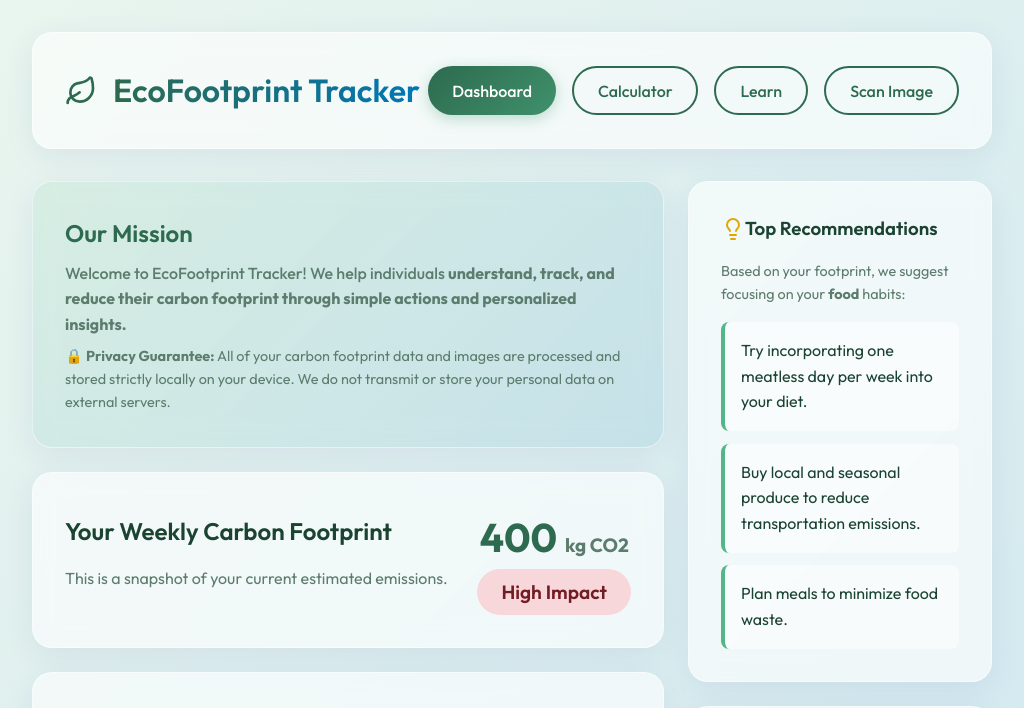
App Component › navigates between tabs
The width and height of the screenshot is (1024, 708).
Click the button "Calculator".
click(635, 91)  # box [572, 66, 698, 115]
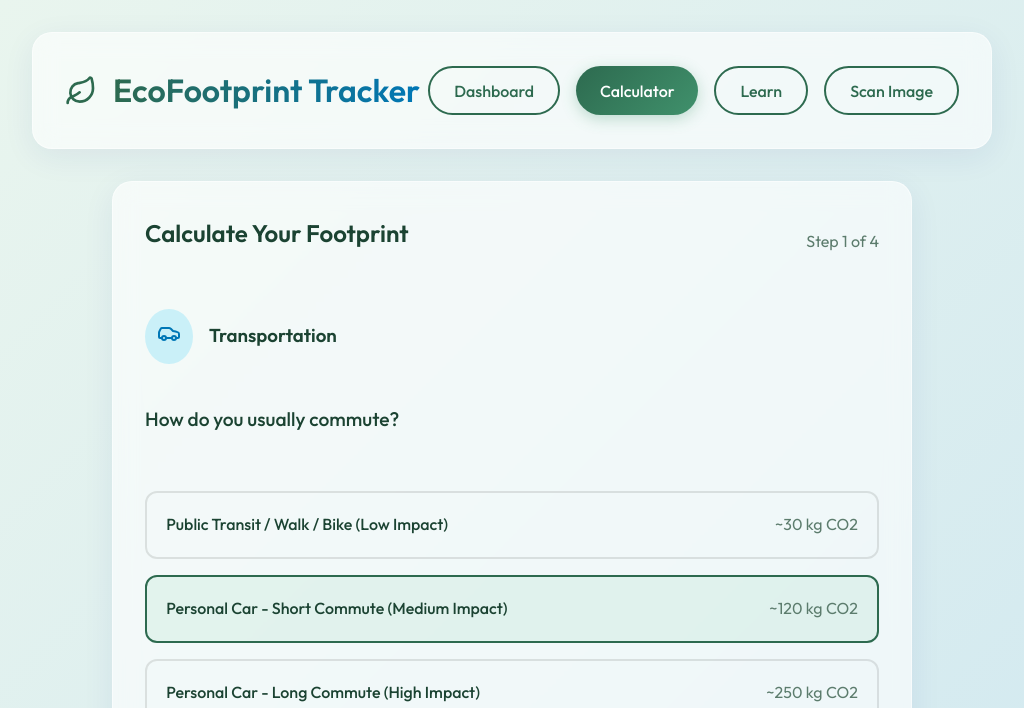
Expected: the heading "Calculate Your Footprint" is shown, [145, 214, 409, 253]
